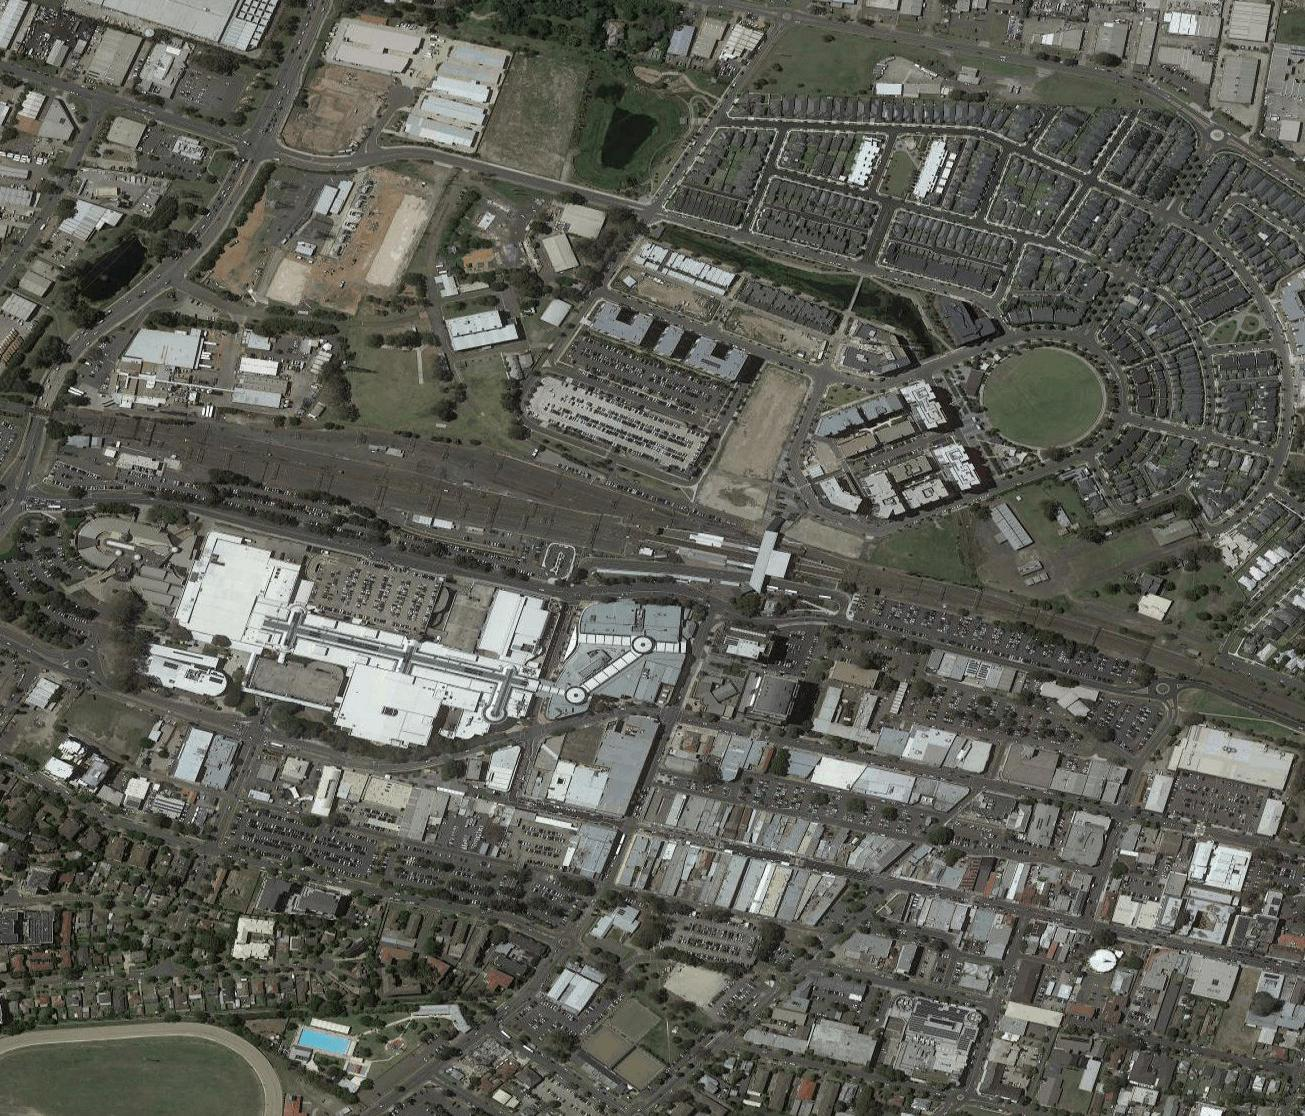train_station: (633, 499, 811, 613)
